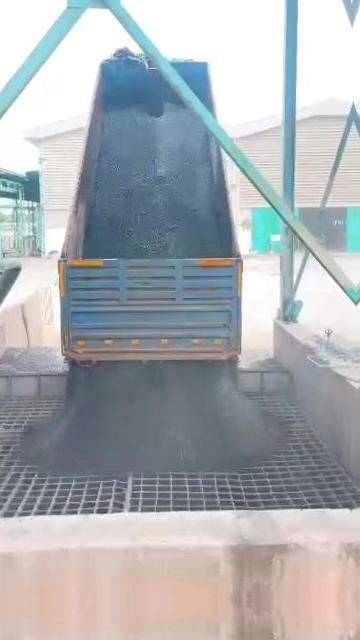gravel: (21, 361, 284, 474), (84, 103, 231, 259), (0, 346, 66, 373)
